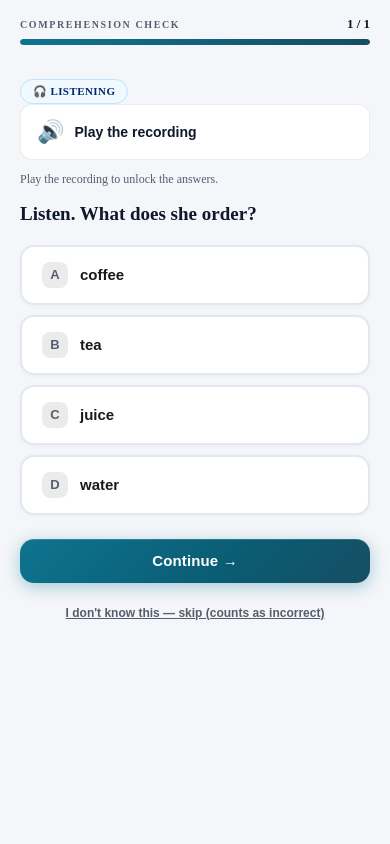
Test: ExamRunner — a listening item is scored only after its recording has PLAYED (2026-09-06) › the failure card offers no exit when the caller provided none
The width and height of the screenshot is (390, 844).
What coordinates should you click on to do the following:
click the button with test id "exam-audio-play"
I would click on:
 (195, 132)
Its box is 20,104 -> 370,160.
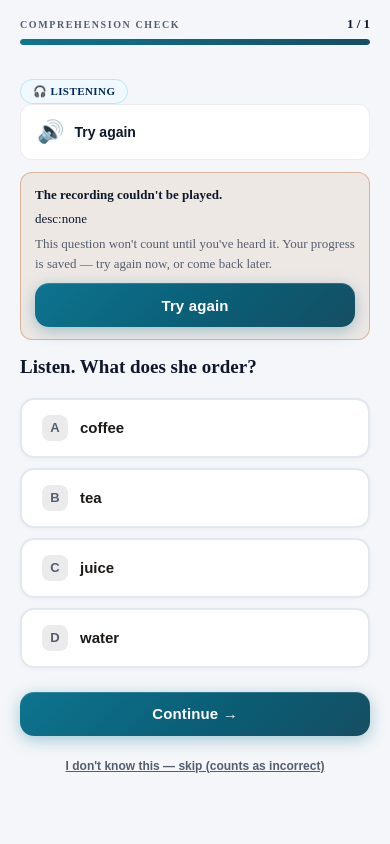
Expected: the message with test id "exam-audio-failed" is shown, 20,172 -> 370,340
Expected: the button with test id "exam-audio-retry" is shown, 35,283 -> 355,327
